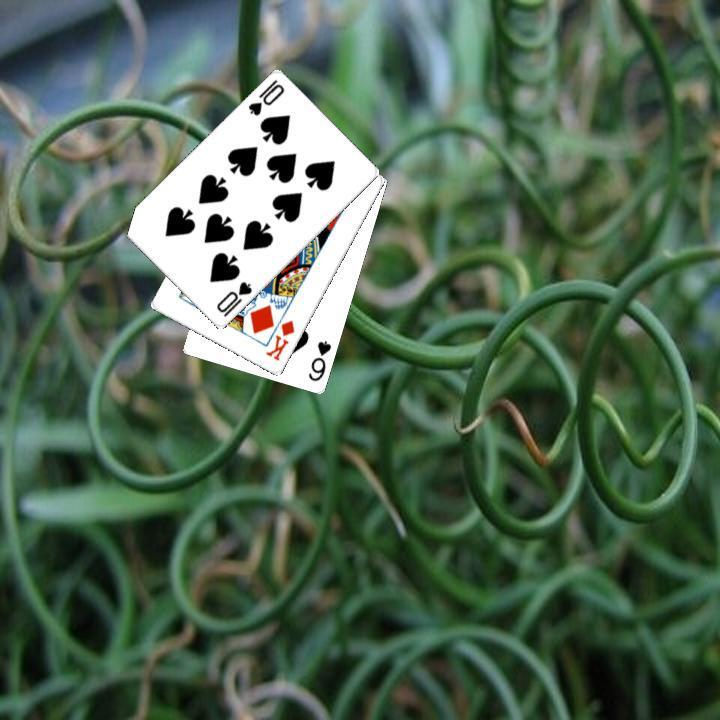10: (244, 76, 287, 118), (212, 277, 254, 319)
6: (304, 336, 333, 384)
K: (261, 316, 297, 363)
